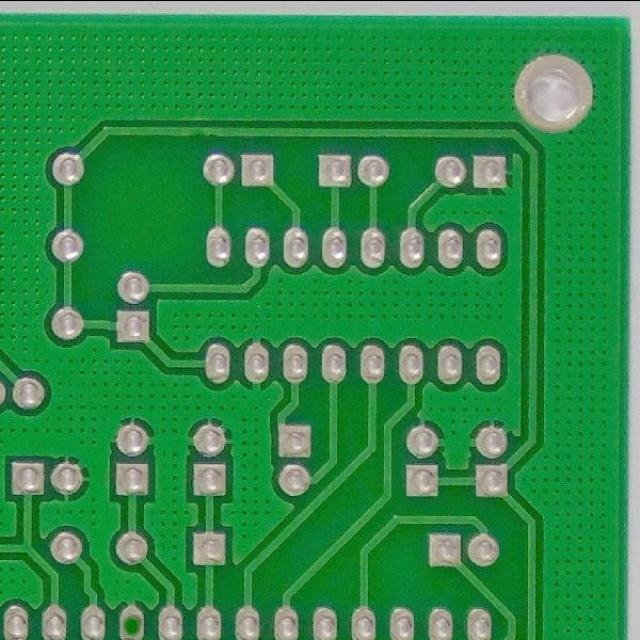Missing_Hole: (112, 602, 150, 640)
